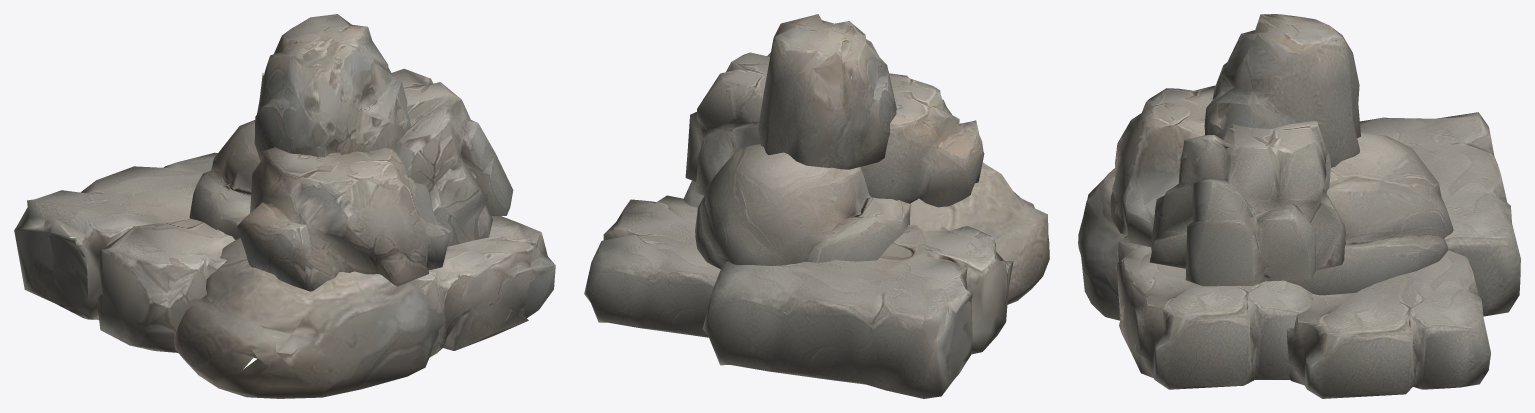
The model's file is cliff_mass_a.gltf.
3 renders of one model, left to right at view 1: azimuth 30°, elevation 25°; view 2: azimuth 150°, elevation 25°; view 3: azimuth 270°, elevation 25°, orthographic. The views are drawn at different scales.
Visible parts, largest first — view 1: cliff_mass_a; view 2: cliff_mass_a; view 3: cliff_mass_a.
Part boxes in pixels (x1=…): cliff_mass_a: x1=14, y1=14, x2=555, y2=398; cliff_mass_a: x1=584, y1=14, x2=1049, y2=398; cliff_mass_a: x1=1078, y1=14, x2=1520, y2=398.
Bounding box in the file's own units: 2.44 × 1.61 × 2.23.
Materials: 1 (1 with a texture image).
